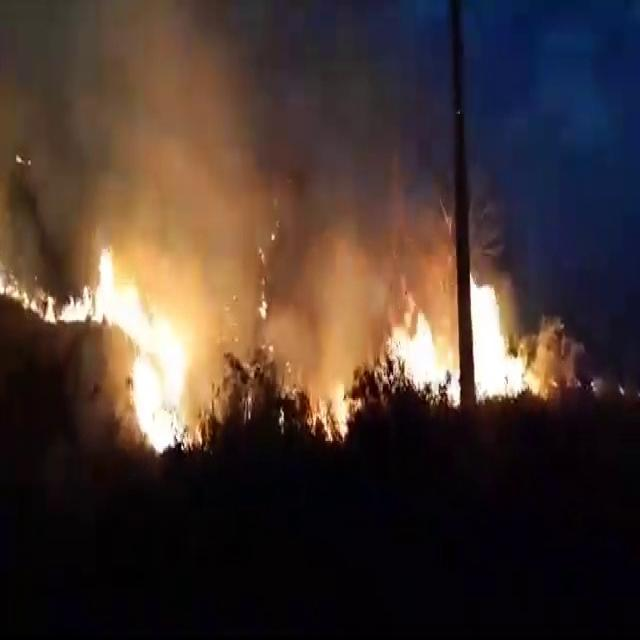Fire: (53, 247, 202, 455), (470, 272, 536, 404), (389, 301, 456, 404), (0, 245, 54, 322), (310, 375, 352, 443)
Smoke: (314, 215, 388, 356), (558, 318, 590, 396)
